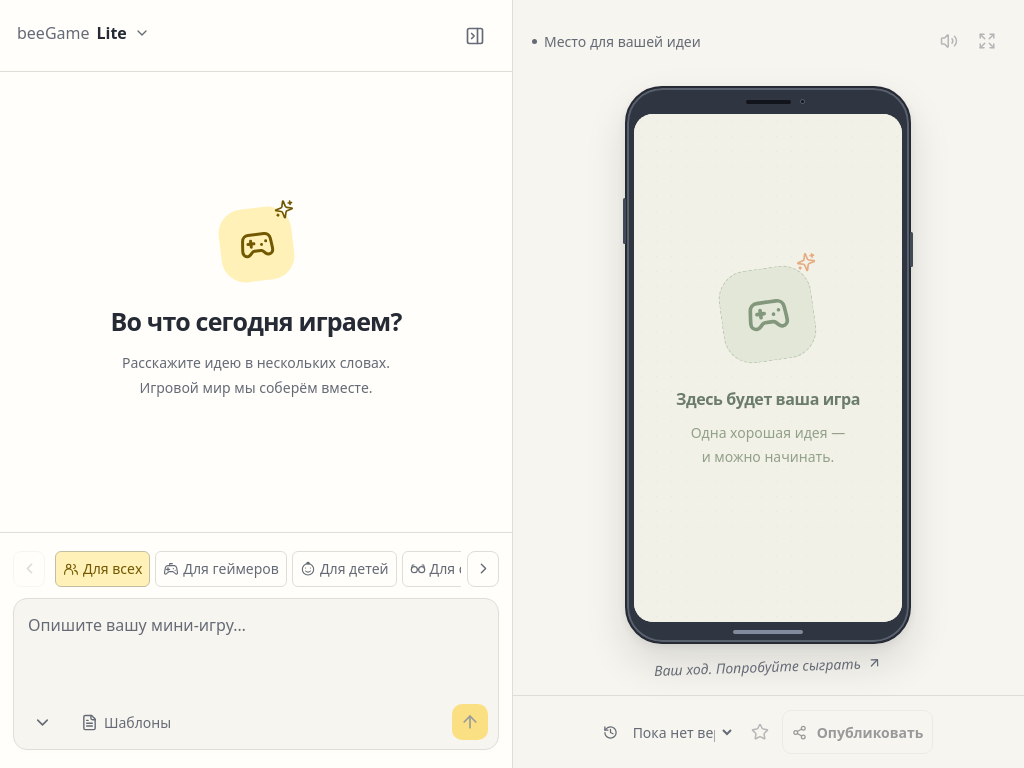
Test: keeps a failed preference change visible and does not change the selected model
Click the heading named "Выбрать модель: Lite" at (83, 32), box [10,16,157,50]
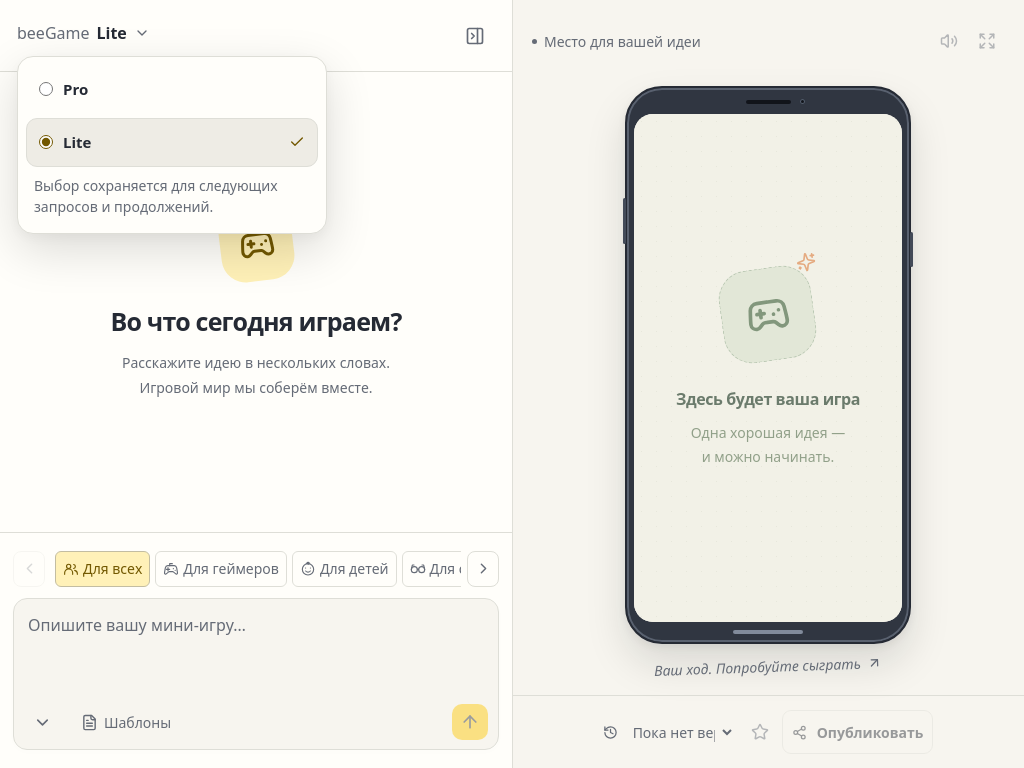
Click the radio button labelled "Pro" at (46, 89), box [39,82,53,96]
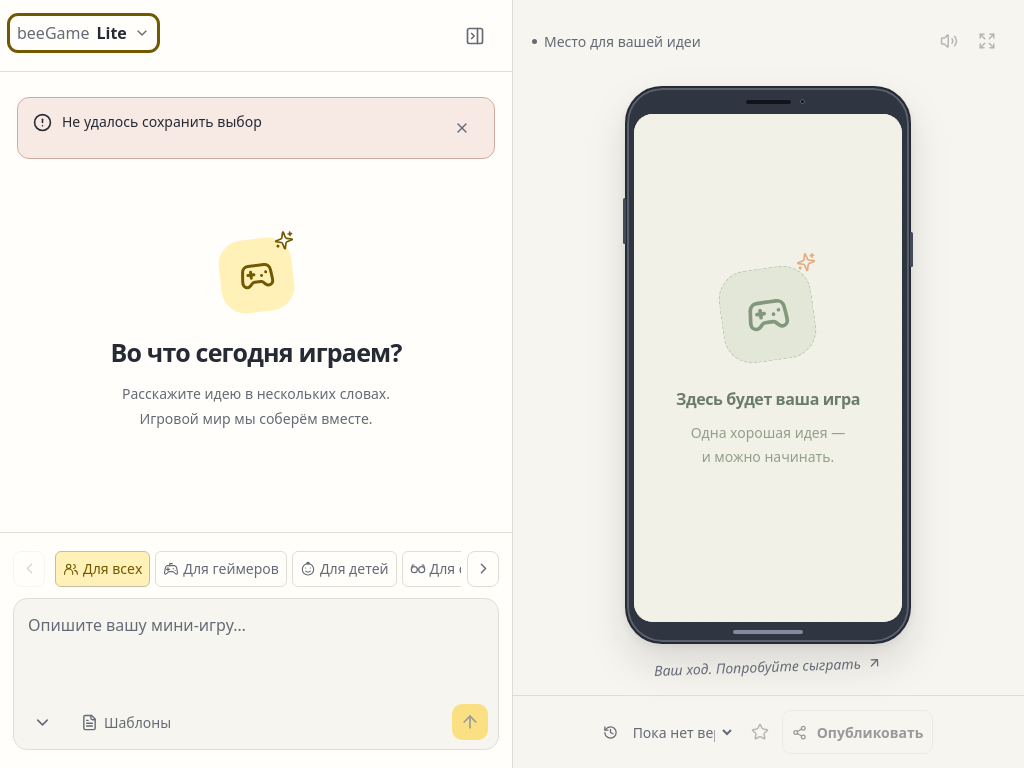
Expected: the heading named "Выбрать модель: Lite" is shown, [10,16,157,50]
Expected: the text "Не удалось сохранить выбор" is shown, [62,112,262,131]
